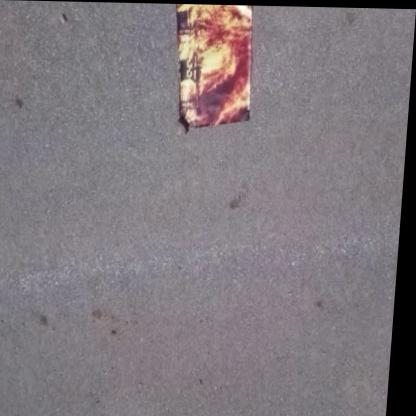fire-poster: (166, 4, 260, 137)
